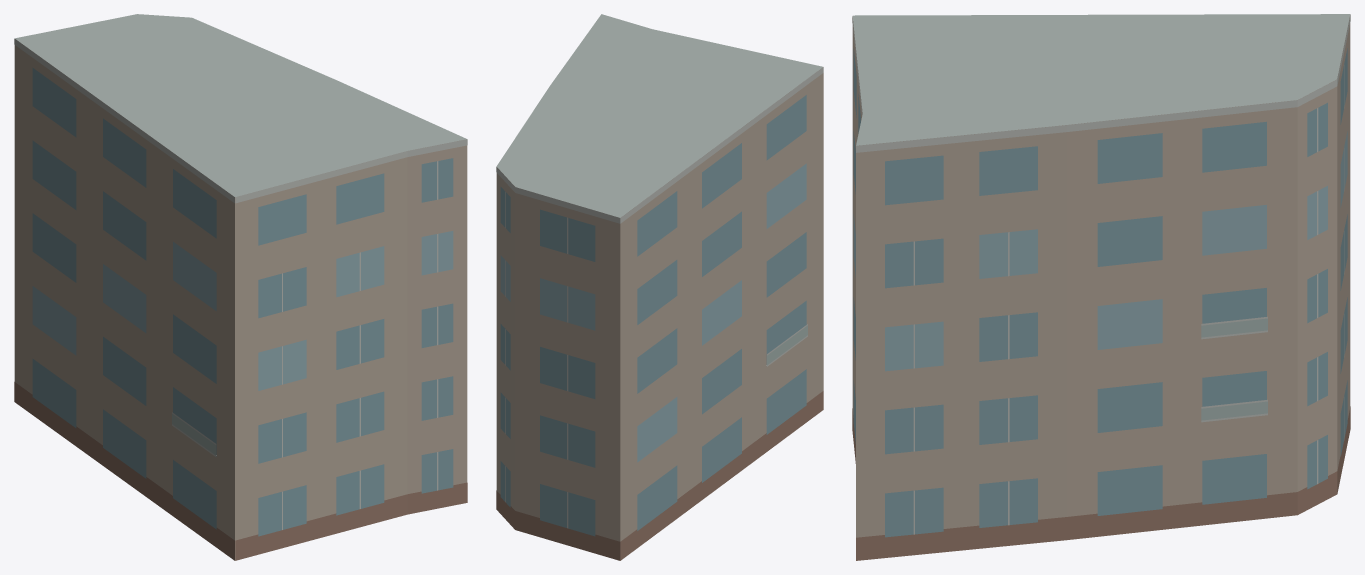
The model's file is survey-upis-32933654.glb.
3 renders of one model, left to right at view 1: azimuth 30°, elevation 25°; view 2: azimuth 150°, elevation 25°; view 3: azimuth 270°, elevation 25°, orthographic. The views are drawn at different scales.
Parts seen in each view (by area): view 1: survey-upis-32933654.tmp; view 2: survey-upis-32933654.tmp; view 3: survey-upis-32933654.tmp.
Part boxes in pixels (x1=…): survey-upis-32933654.tmp: x1=14, y1=14, x2=467, y2=560; survey-upis-32933654.tmp: x1=496, y1=14, x2=823, y2=560; survey-upis-32933654.tmp: x1=852, y1=14, x2=1350, y2=560.
Size of the model in its own units: 9.68 by 14.2 by 15.44.
